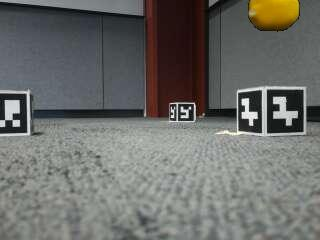lemon: (248, 0, 298, 31)
